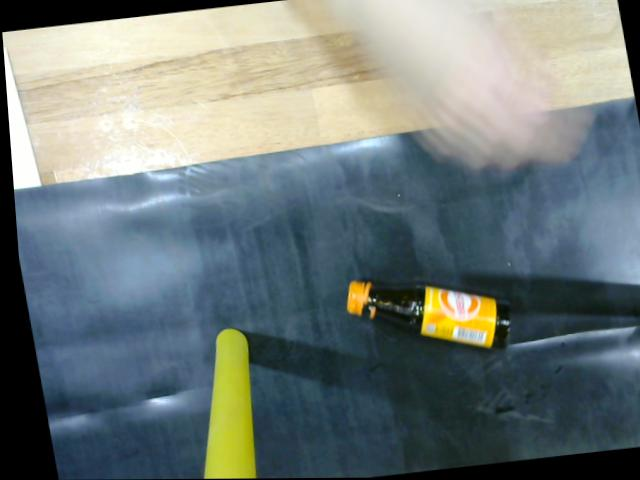glass: (324, 270, 517, 374)
